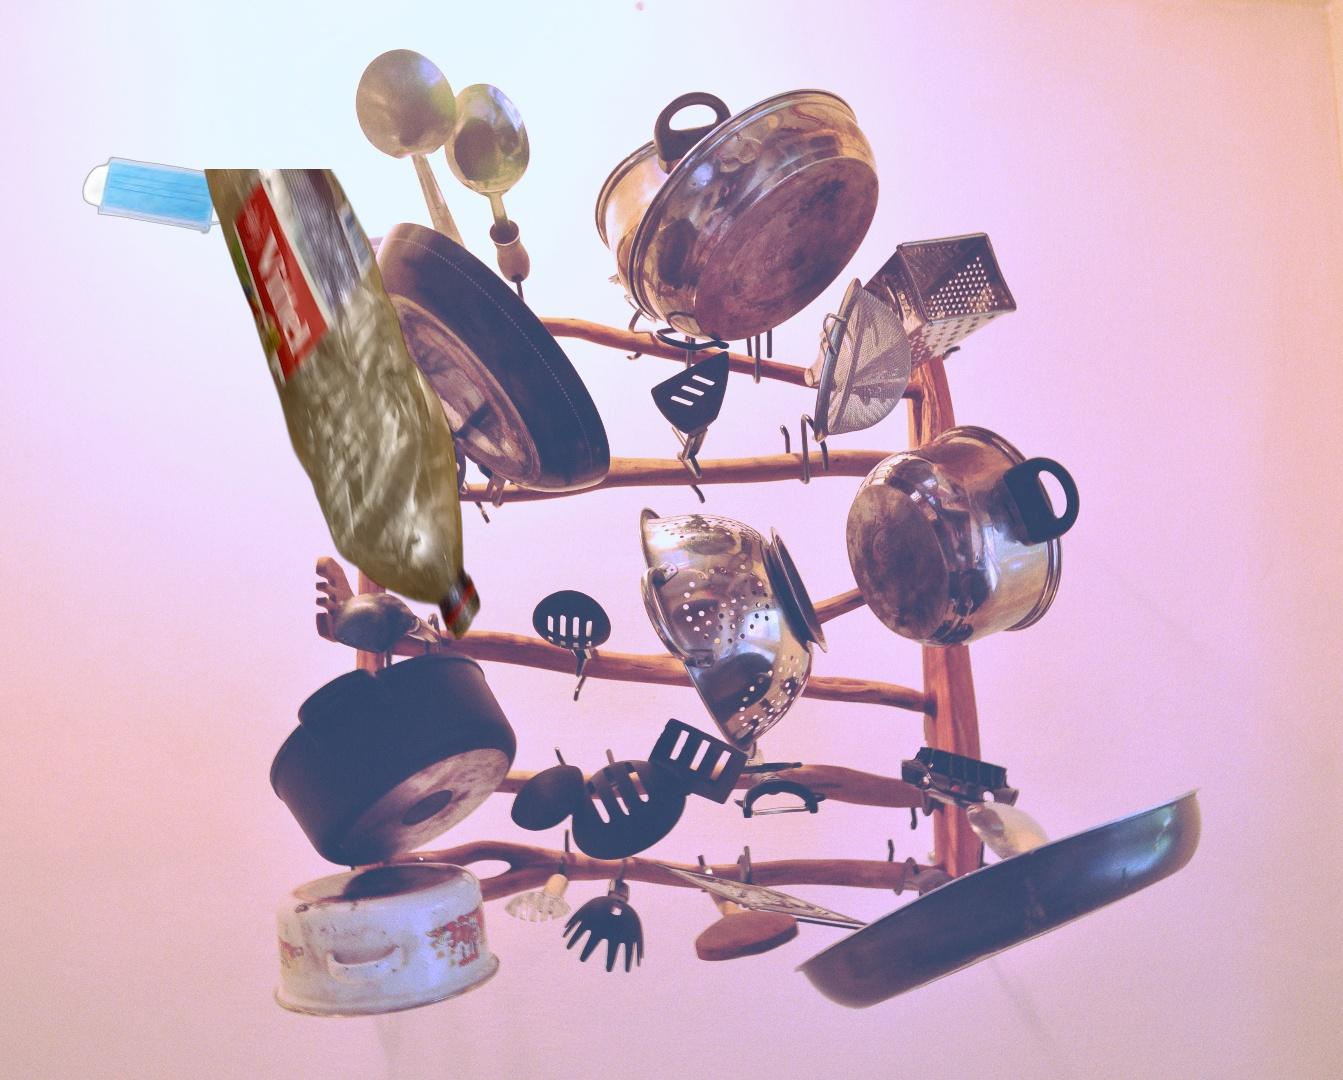plastic-bottles: (202, 169, 483, 642)
trash: (80, 155, 250, 235)
